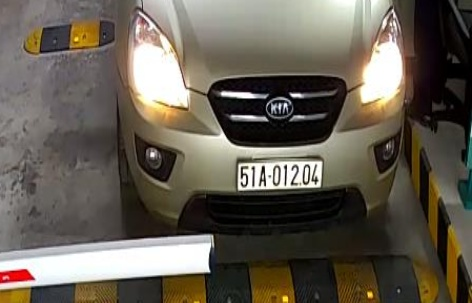plate: (233, 155, 328, 195)
